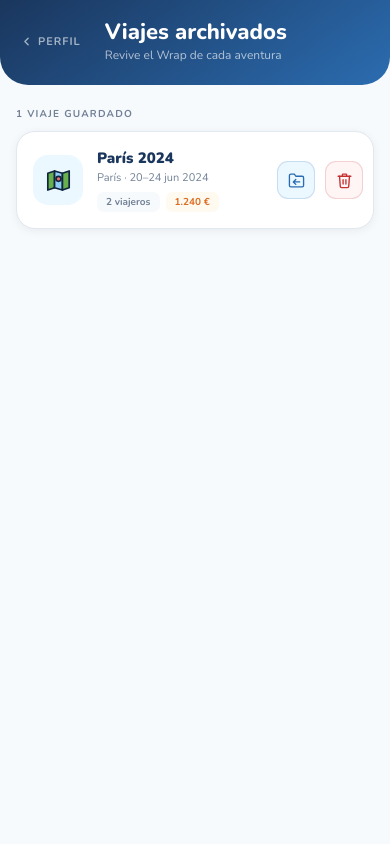
Scenario: ViajesArchivados · eliminar con confirmación › si el backend no lo borra muestra el error y mantiene el viaje
Click the button named "Eliminar París 2024" at (344, 180), box [325,161,363,199]
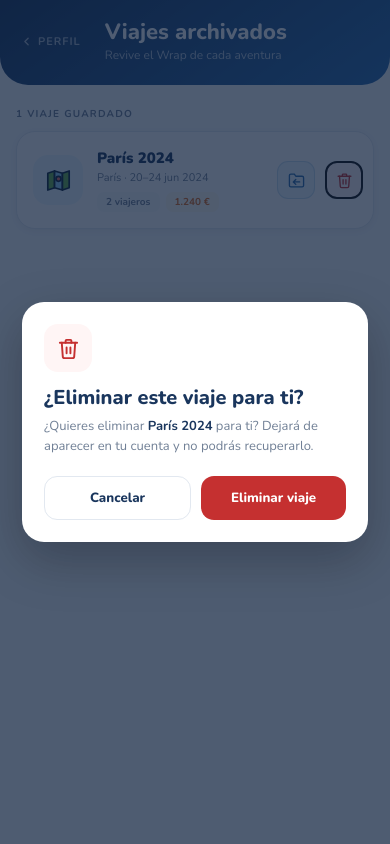
Click the button "Eliminar viaje" at (274, 498), box [201,476,346,520]
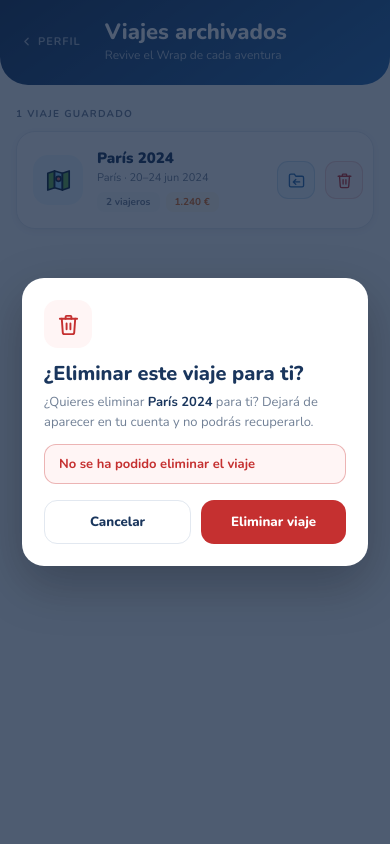
Expected: the button "París 2024 París · 20–24 jun 2024 2 viajeros 1.240 €" is shown, [33,142,267,218]
Result: the message reads "No se ha podido eliminar el viaje" at [59,455,255,473]
